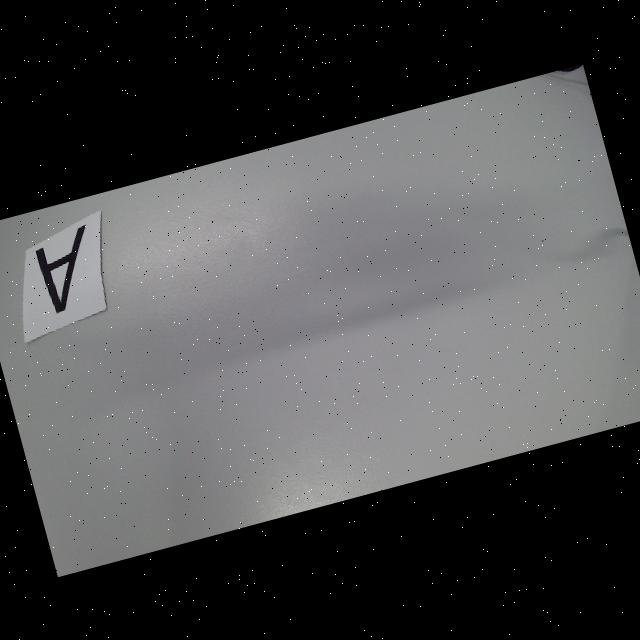FAKE: (30, 223, 106, 314)
